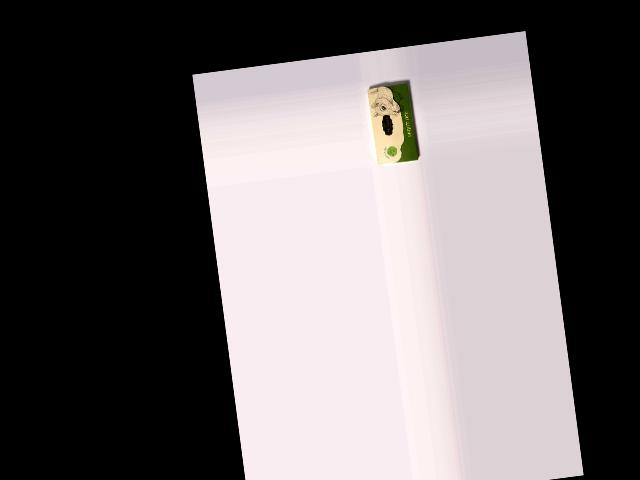chocolate: (366, 81, 419, 166)
